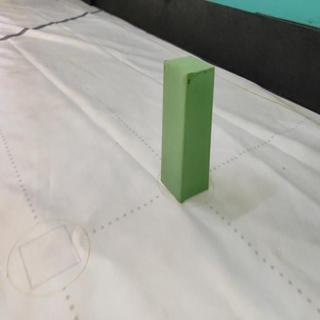greenbox: (160, 55, 216, 204)
